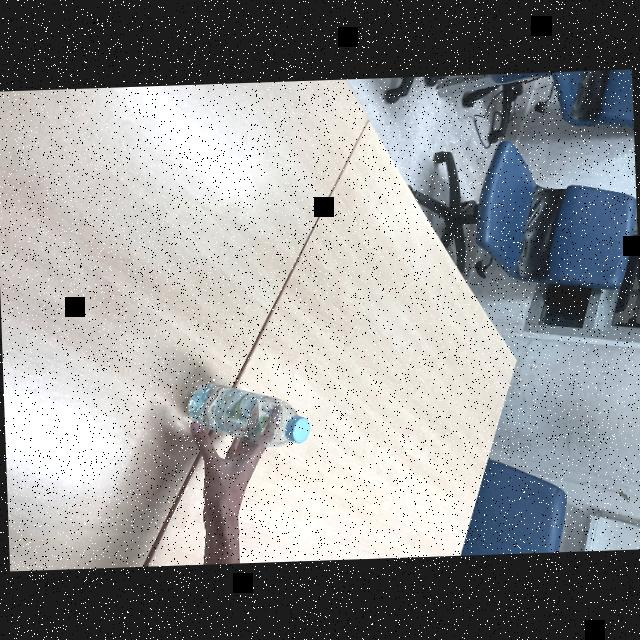plastic_bottle: (182, 378, 312, 448)
plastic_bottle_cap: (284, 412, 310, 443)
